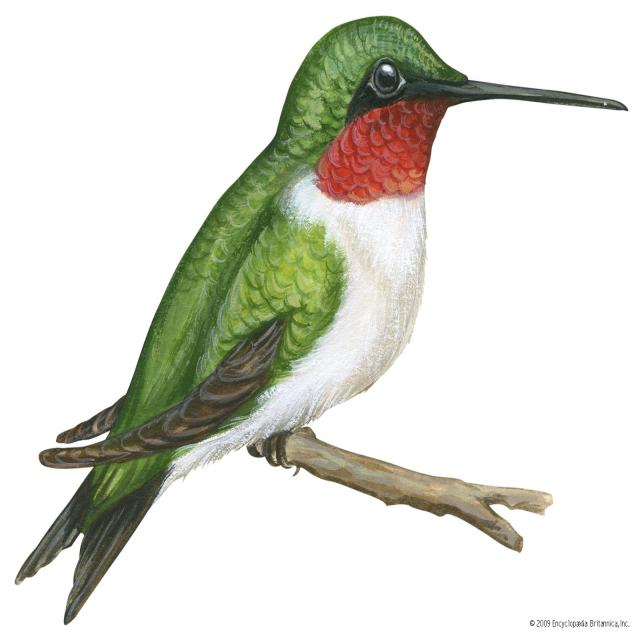Humming Bird: (25, 6, 632, 614)
